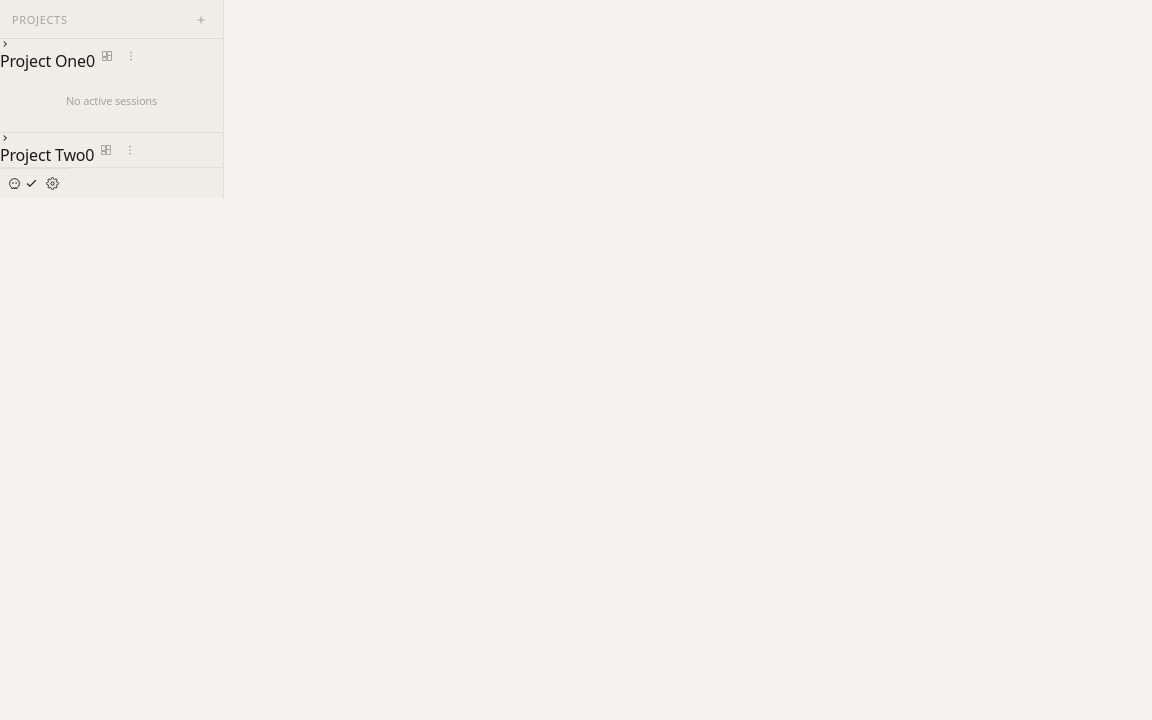
Test: ProjectSidebar › navigates to the add-project flow from the plus button
This screenshot has width=1152, height=720.
Click the button named "new project": (201, 20) x1=191 y1=10 x2=211 y2=30
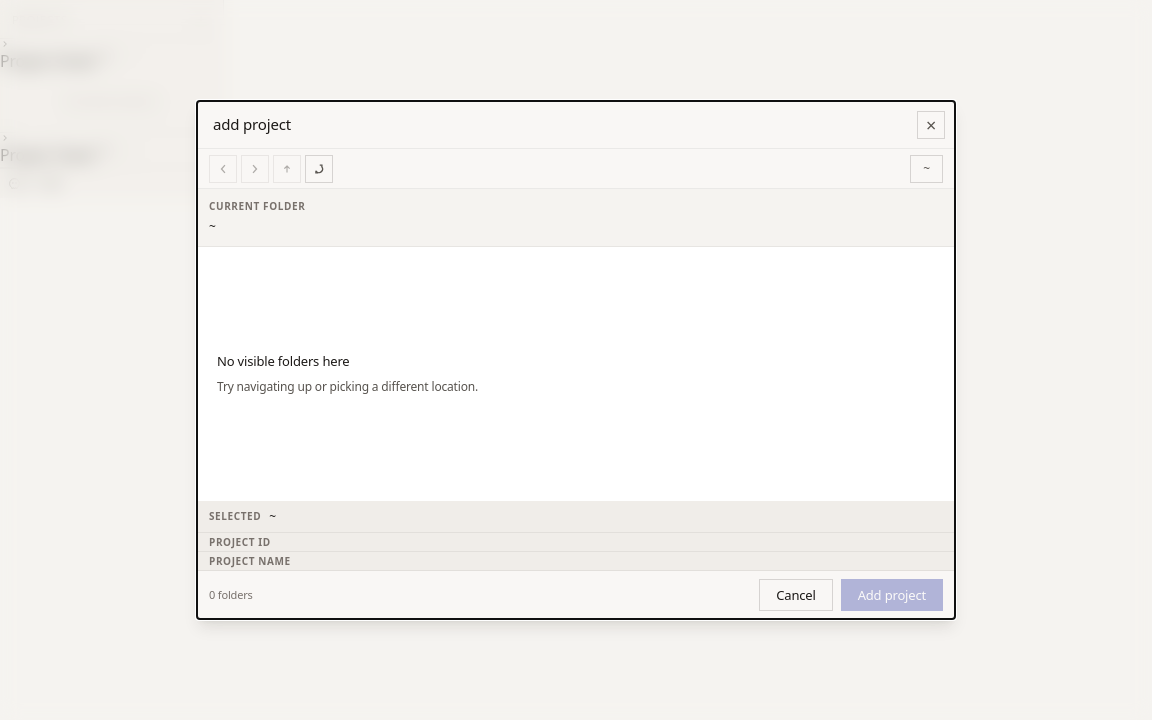
expect the dialog "add project" is shown: met, box x1=196 y1=100 x2=956 y2=620
